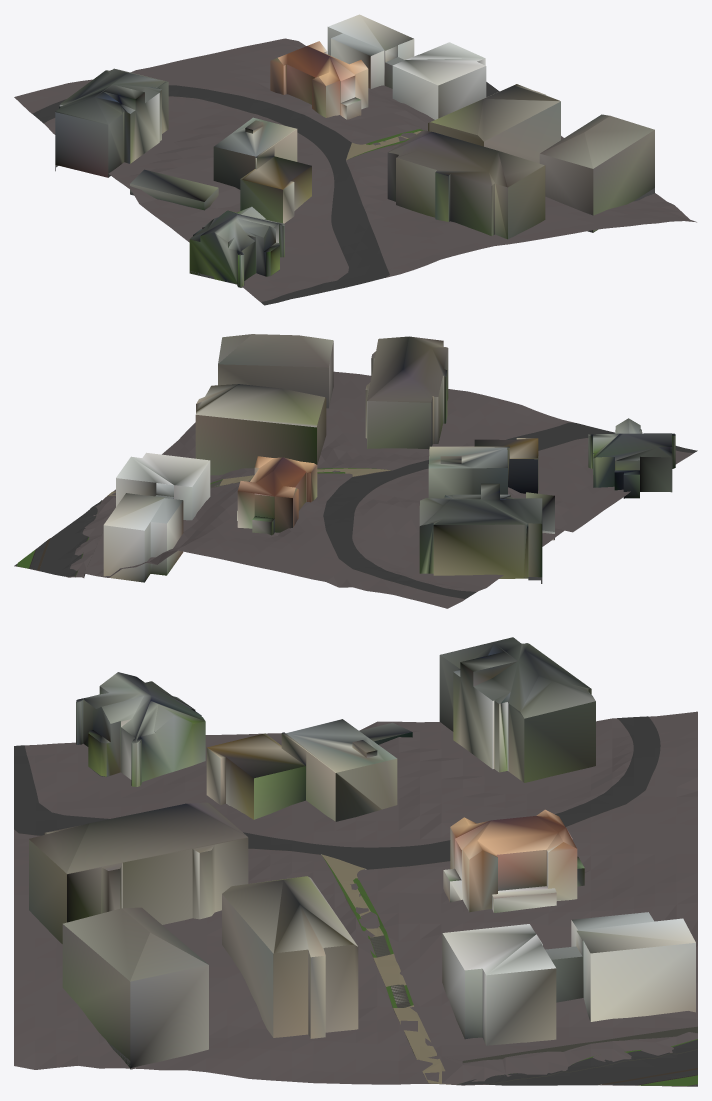
3 views of the same model, one above another, from view 1: azimuth 30°, elevation 25°; view 2: azimuth 150°, elevation 25°; view 3: azimuth 270°, elevation 25° (orthographic). The views are drawn at different scales.
Parts seen in each view (by area): view 1: c_p03_p09; view 2: c_p03_p09; view 3: c_p03_p09.
Part boxes in pixels (x1,y1,x2,y2): c_p03_p09: [14, 14, 696, 305]; c_p03_p09: [14, 334, 697, 608]; c_p03_p09: [14, 637, 697, 1086].
Bounding box in the file's own units: 136 × 32.75 × 128.
